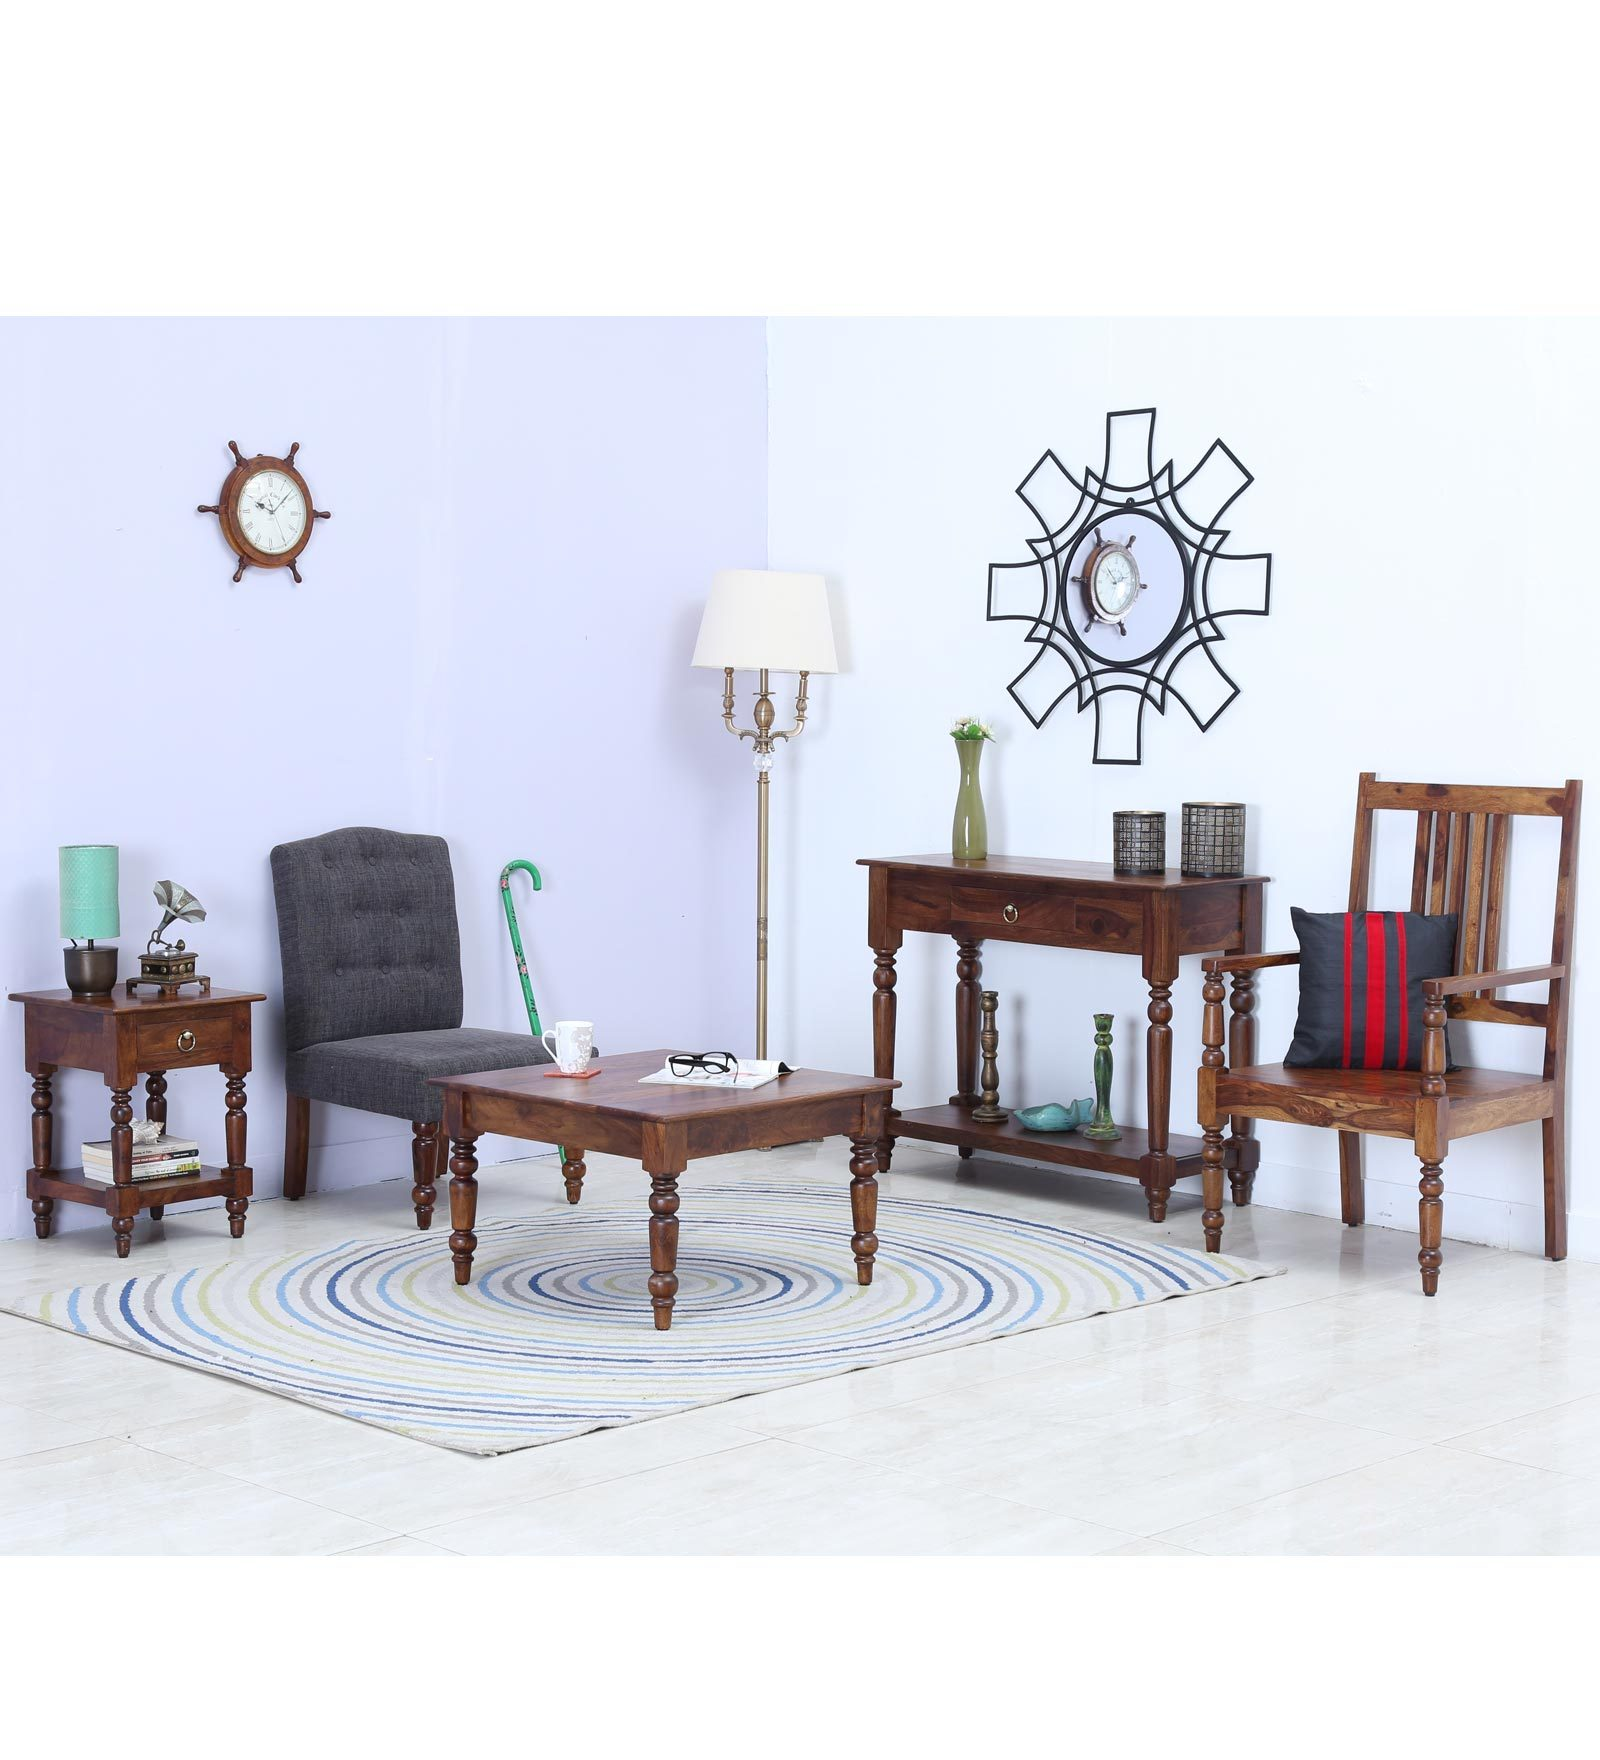Harleston Arm Chair in Provincial Teak Finish by Amberville: (1198, 763, 1600, 1325)
